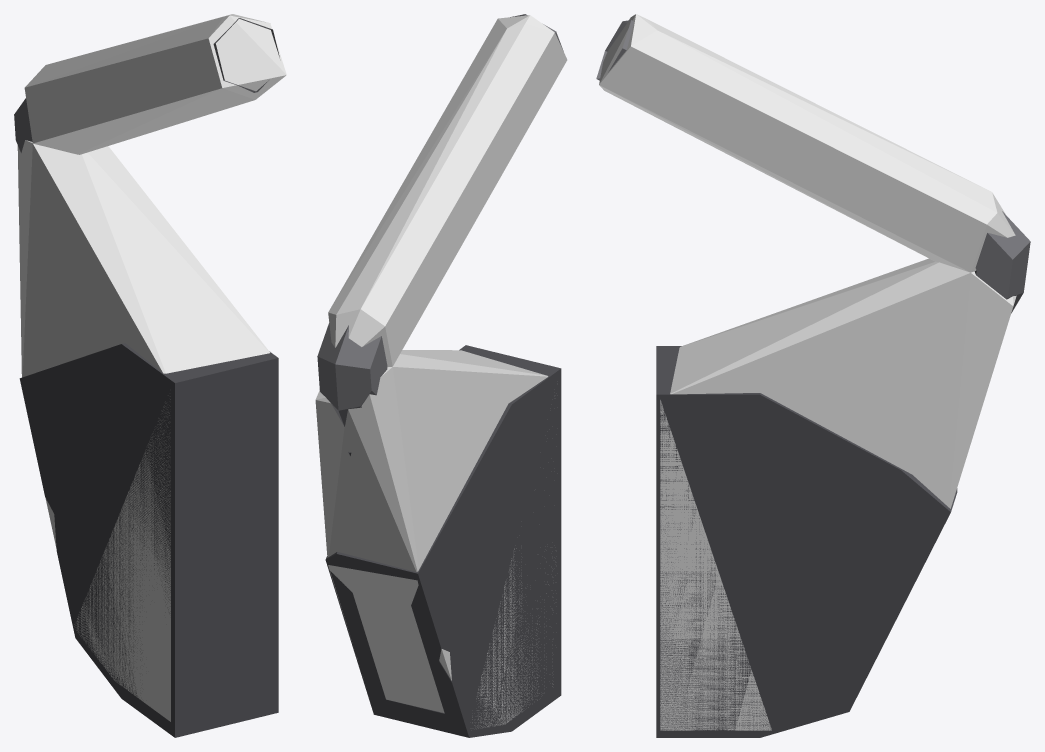
File: SM_Prop_Detail_Pipe_01.fbx
The picture shows the model from 3 angles, left to right: view 1: azimuth 30°, elevation 25°; view 2: azimuth 150°, elevation 25°; view 3: azimuth 270°, elevation 25°; orthographic projection. The views are drawn at different scales.
Parts seen in each view (by area): view 1: SM_Prop_Detail_Pipe_01_ConvexHulls, SM_Prop_Detail_Pipe_01_LOD0; view 2: SM_Prop_Detail_Pipe_01_ConvexHulls, SM_Prop_Detail_Pipe_01_LOD0; view 3: SM_Prop_Detail_Pipe_01_ConvexHulls, SM_Prop_Detail_Pipe_01_LOD0.
Part boxes in pixels (bbox=[...]): SM_Prop_Detail_Pipe_01_ConvexHulls: bbox=[17, 14, 286, 721]; SM_Prop_Detail_Pipe_01_LOD0: bbox=[14, 18, 279, 737]; SM_Prop_Detail_Pipe_01_ConvexHulls: bbox=[315, 15, 567, 728]; SM_Prop_Detail_Pipe_01_LOD0: bbox=[317, 14, 563, 737]; SM_Prop_Detail_Pipe_01_ConvexHulls: bbox=[599, 14, 1016, 730]; SM_Prop_Detail_Pipe_01_LOD0: bbox=[596, 20, 1030, 737].
Bounding box in the file's own units: 89.84 × 23.91 × 159.
Materials: 1 (1 with a texture image).
